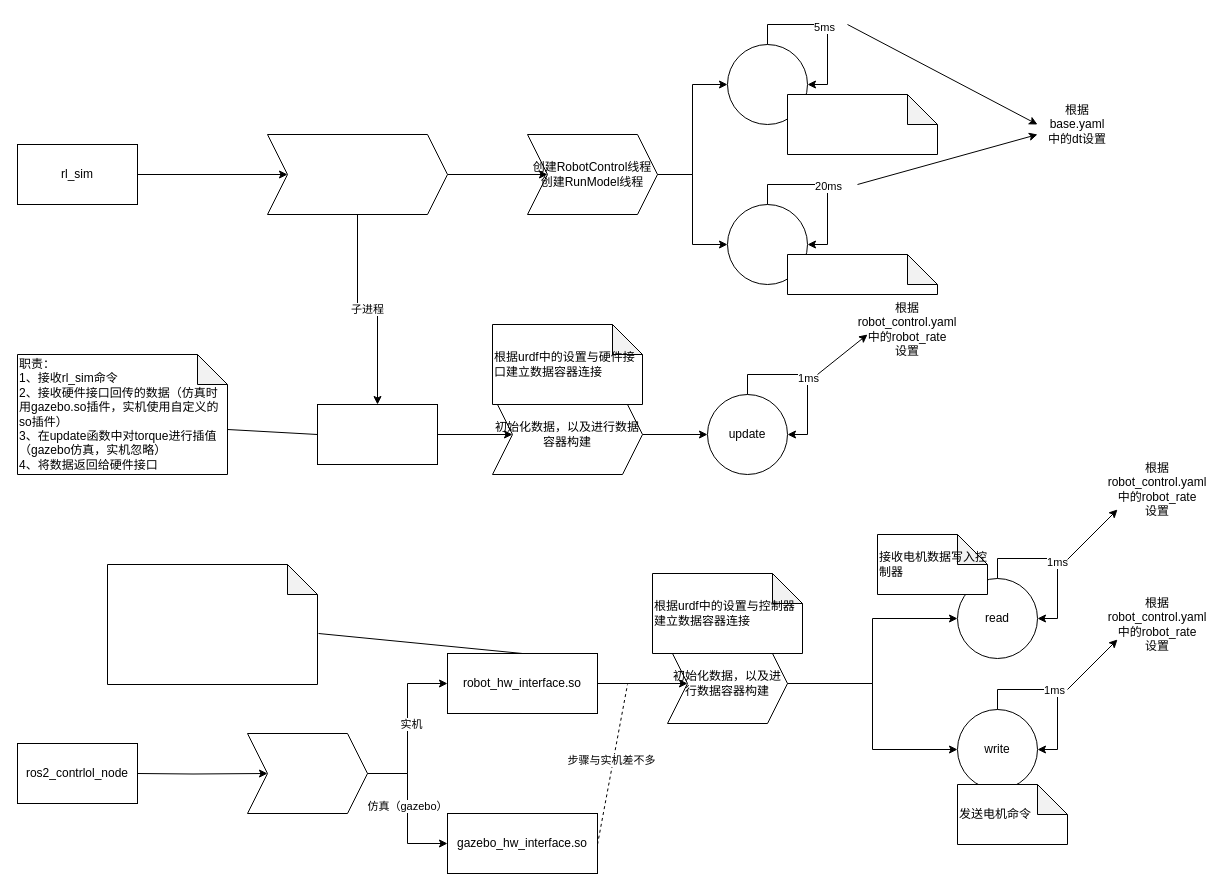
This 1224x891 diagram has some shape labels left out. The box of each missing label's shape, as (x1, y1, x2, y2) in pixels:
RobotControl: (726, 44, 808, 124)
RunModel: (726, 204, 808, 284)
加载并管理robot_joint_controller (robot_joint_controller_group): (316, 404, 438, 464)
加载硬件接口: (246, 732, 368, 814)
新建子进程请求 controller_manager加载robot_joint_controller: (266, 134, 448, 214)
构建电机控制命令发给控制器: (786, 94, 938, 154)
生成推理的目标位置: (786, 254, 938, 294)
职责： 1、接收实机电机状态数据 2、向实机发送电机控制数据: (106, 564, 318, 684)
